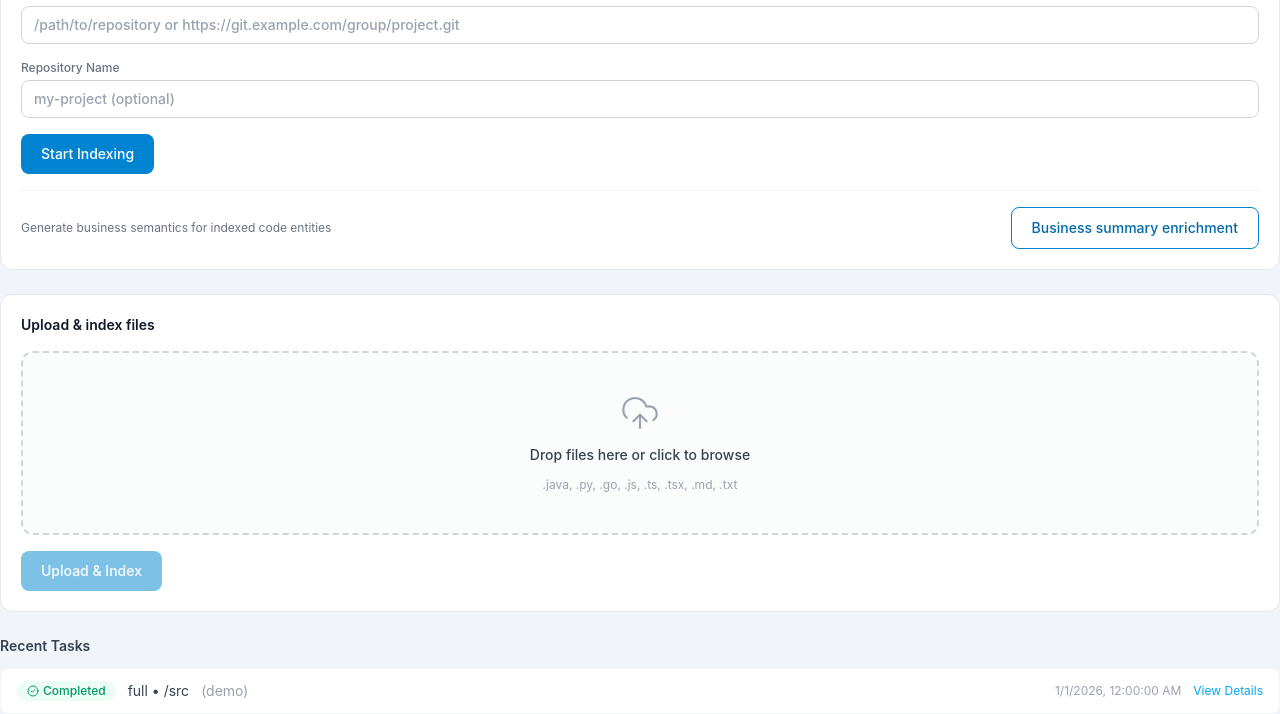
Test: Indexing › shows task progress when viewing details
This screenshot has width=1280, height=714.
(page scrolled)
Click the button "View Details" at (1228, 691), box [1193,683,1263,699]
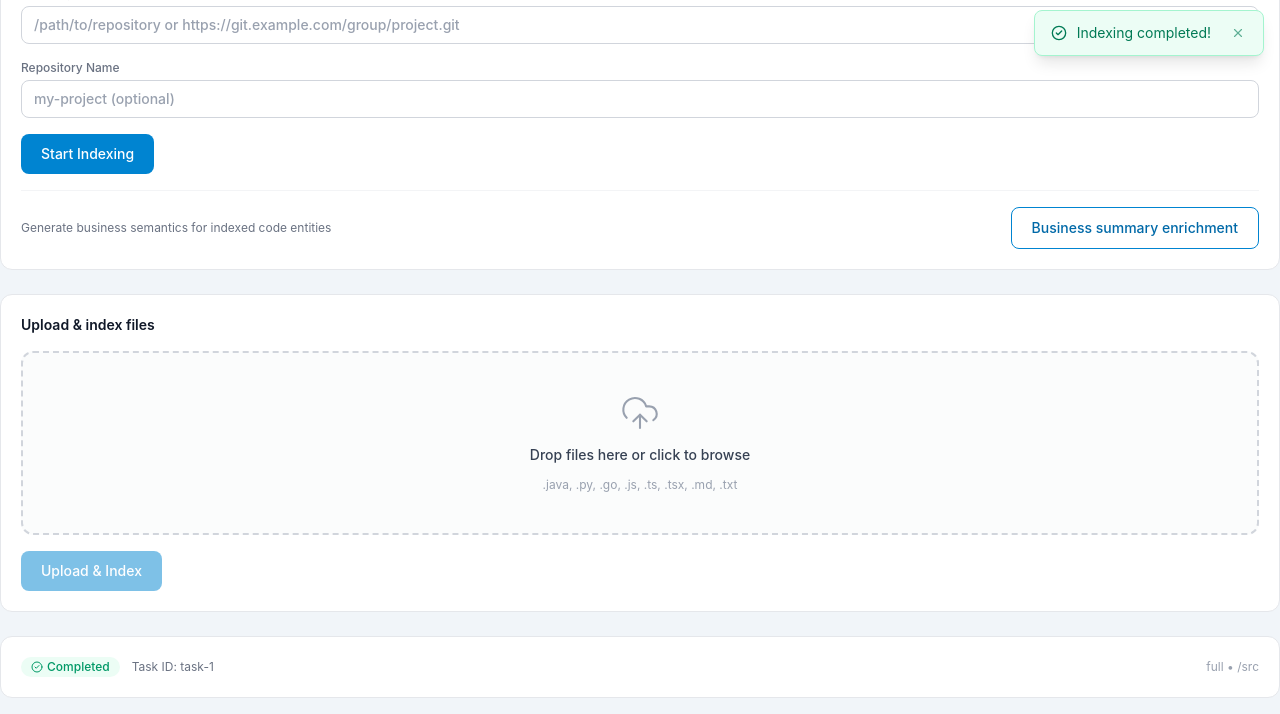
Now the text "Task ID: task-1" is shown, box [132,659,214,675]
